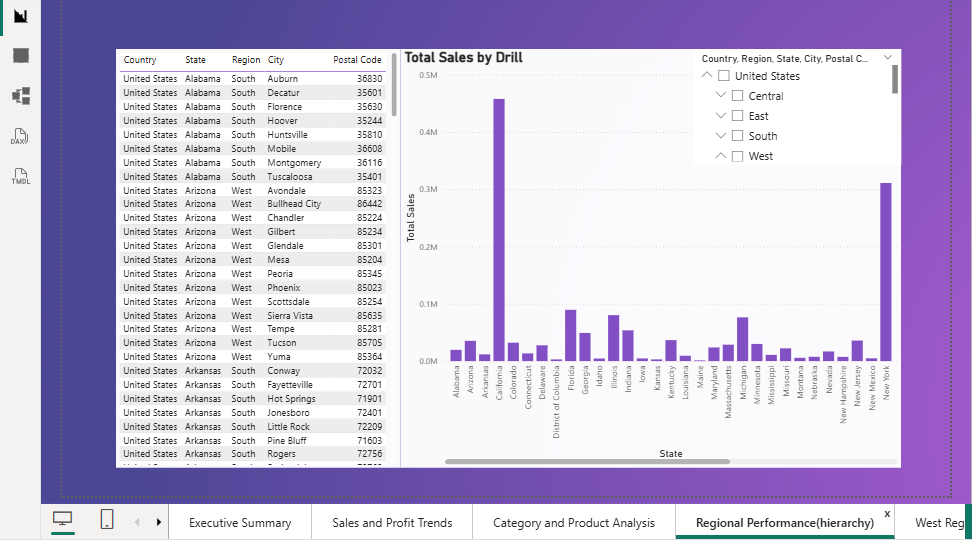

This screenshot's page, from the dashboard's own definition file:
{"tool":"powerbi","page":{"name":"Regional Performance(hierarchy)","canvas":[1280,720],"ordinal":3},"visuals":[{"type":"tableEx","fields":{"Values":["Orders.Location.Country","Orders.State","Orders.Region","Orders.City","Orders.Postal Code"]},"box":[77.8,76.3,410.4,603.4],"z":0},{"type":"clusteredColumnChart","title":"Total Sales by Drill ","fields":{"Category":["Orders.Location.Country","Orders.Country","Orders.State","Orders.Region","Orders.City","Orders.Postal Code"],"Y":["Measuires.Total Sales"]},"box":[488.2,76.3,720,603.4],"z":1000},{"type":"slicer","fields":{"Values":["Orders.Country","Orders.Region","Orders.State","Orders.City","Orders.Postal Code"]},"box":[908.6,76.3,299.5,167],"z":2000}]}

Visuals, with their boxes on the page's 1280x720 design canvas (x1, y1, x2, y2). These are canvas units, not pixel positions in the 972x540 screenshot, which may show the page scaled, cropped or inside an application window:
tableEx - Orders.Location.Country x Orders.State: <box>78,76,488,680</box>
"Total Sales by Drill " clusteredColumnChart: <box>488,76,1208,680</box>
slicer - Orders.Country x Orders.Region: <box>909,76,1208,243</box>
